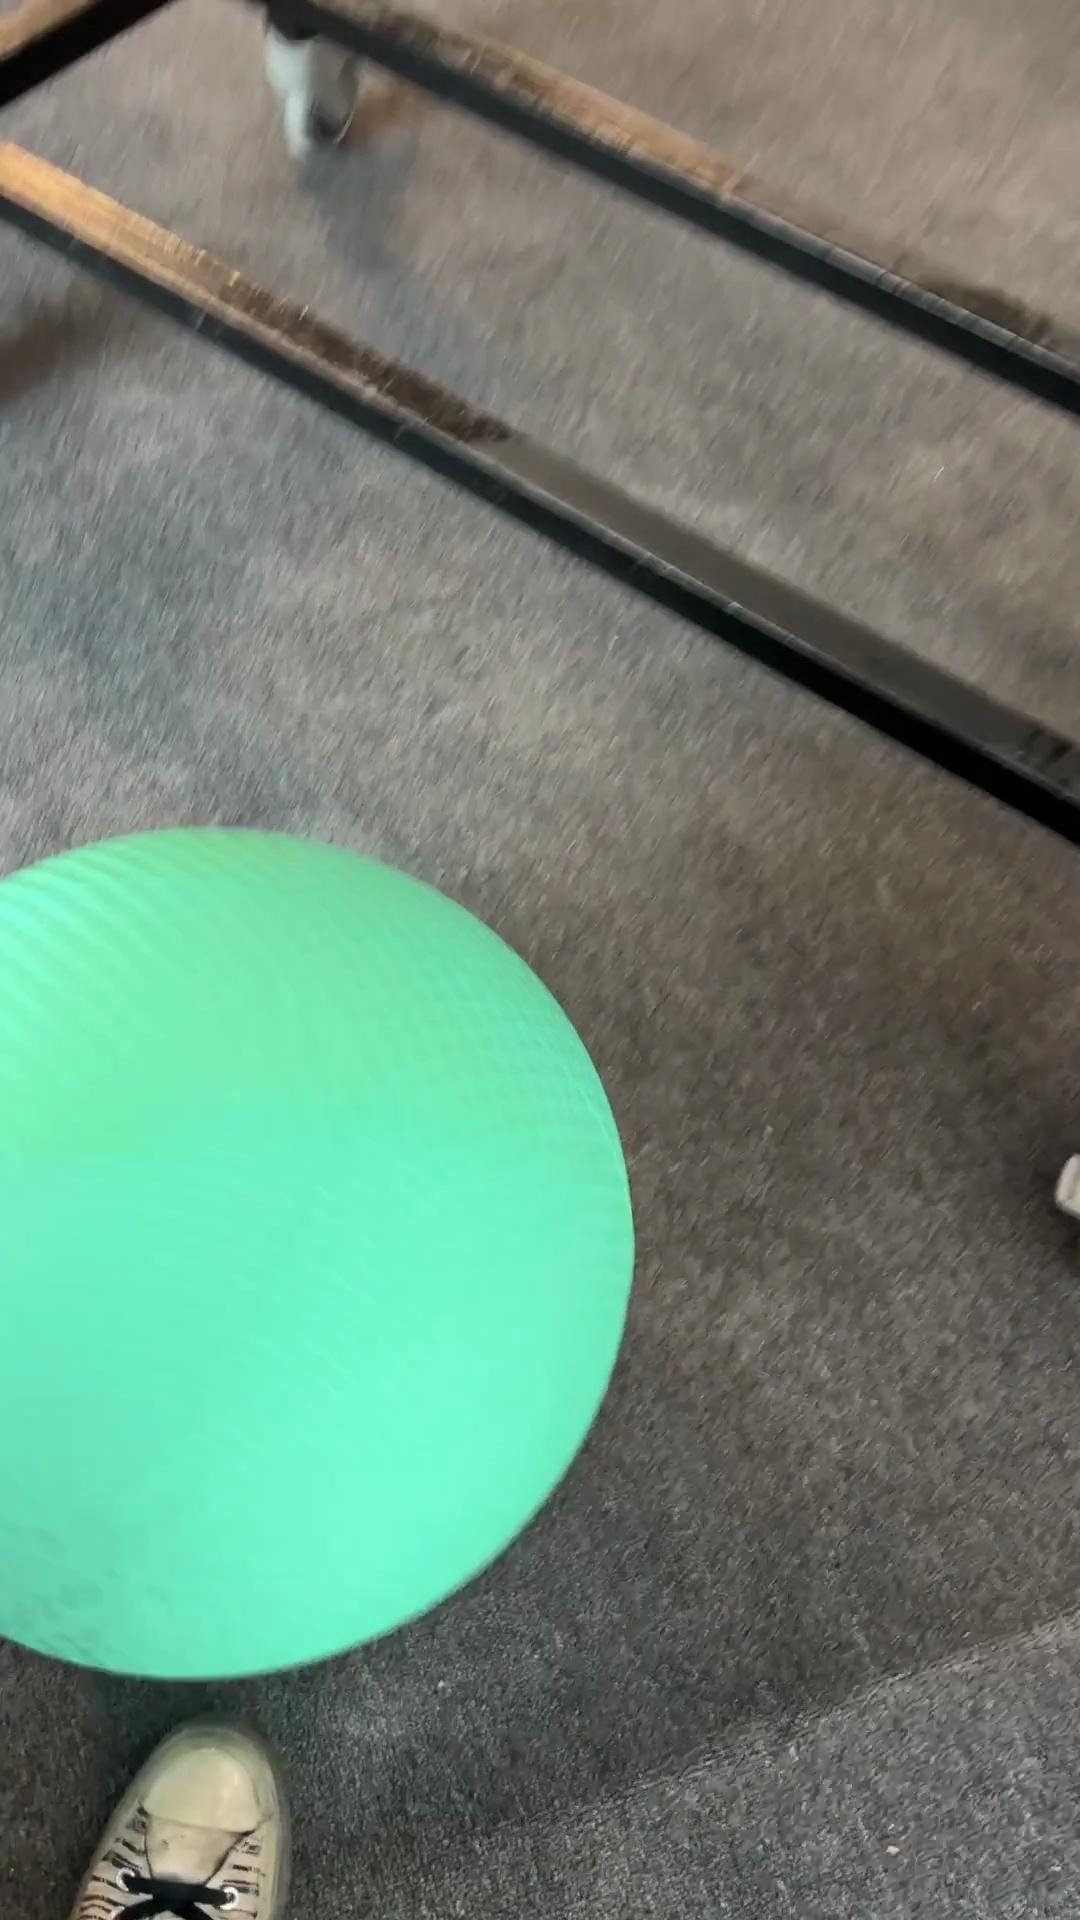ALGAE: (1, 822, 637, 1683)
